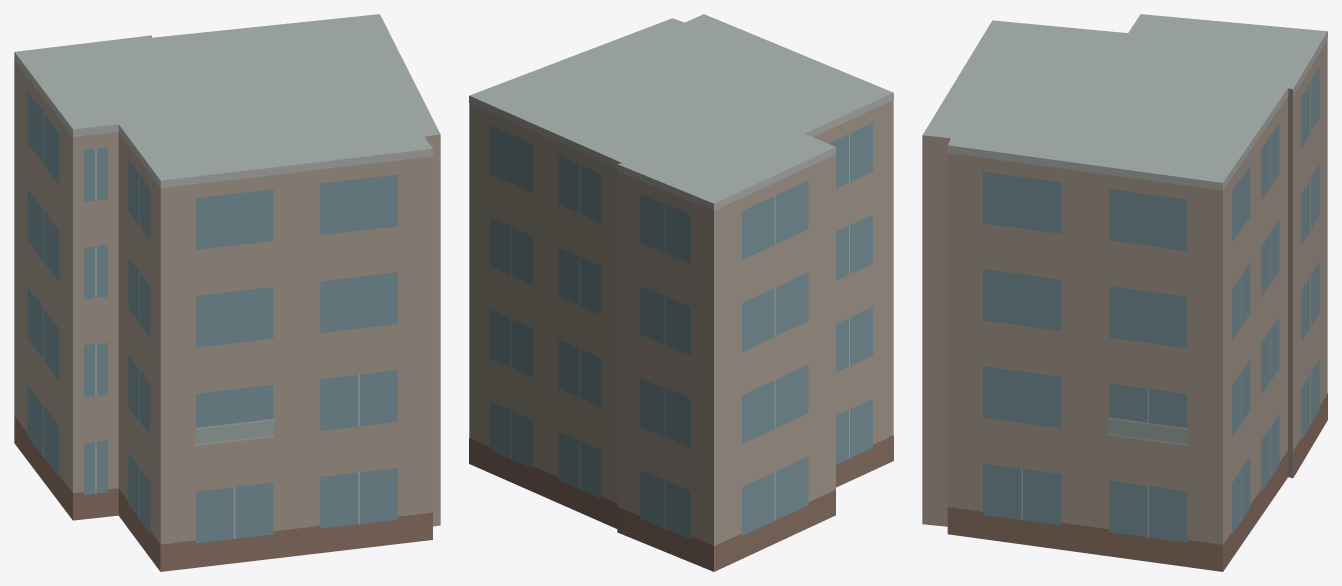
Rendered from survey-upis-32756261.glb.
The picture shows the model from 3 angles, left to right: view 1: azimuth 30°, elevation 25°; view 2: azimuth 150°, elevation 25°; view 3: azimuth 270°, elevation 25°; orthographic projection. The views are drawn at different scales.
Parts seen in each view (by area): view 1: survey-upis-32756261.tmp; view 2: survey-upis-32756261.tmp; view 3: survey-upis-32756261.tmp.
Part boxes in pixels (box(x1,y1,x2,y2)): survey-upis-32756261.tmp: box(14, 14, 440, 571); survey-upis-32756261.tmp: box(469, 14, 893, 571); survey-upis-32756261.tmp: box(922, 14, 1327, 571).
Size of the model in its own units: 11.66 by 12.5 by 11.82.
